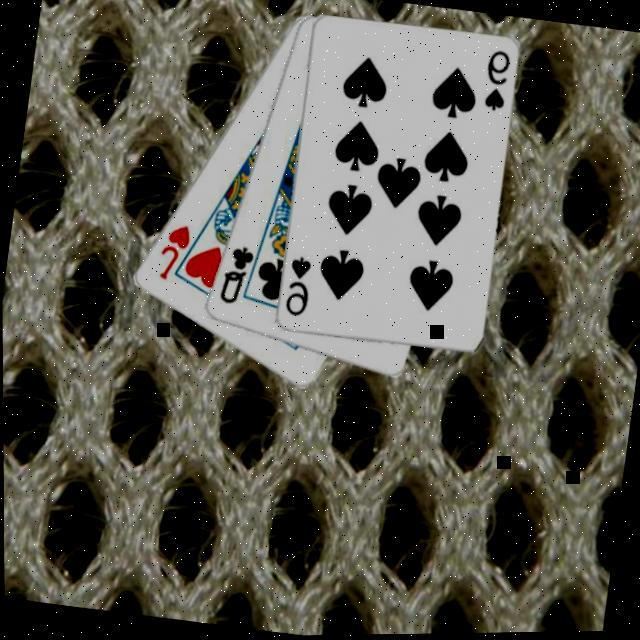9S: (282, 253, 318, 321), (480, 47, 516, 115)
JH: (155, 219, 196, 285)
QC: (216, 240, 258, 310)
